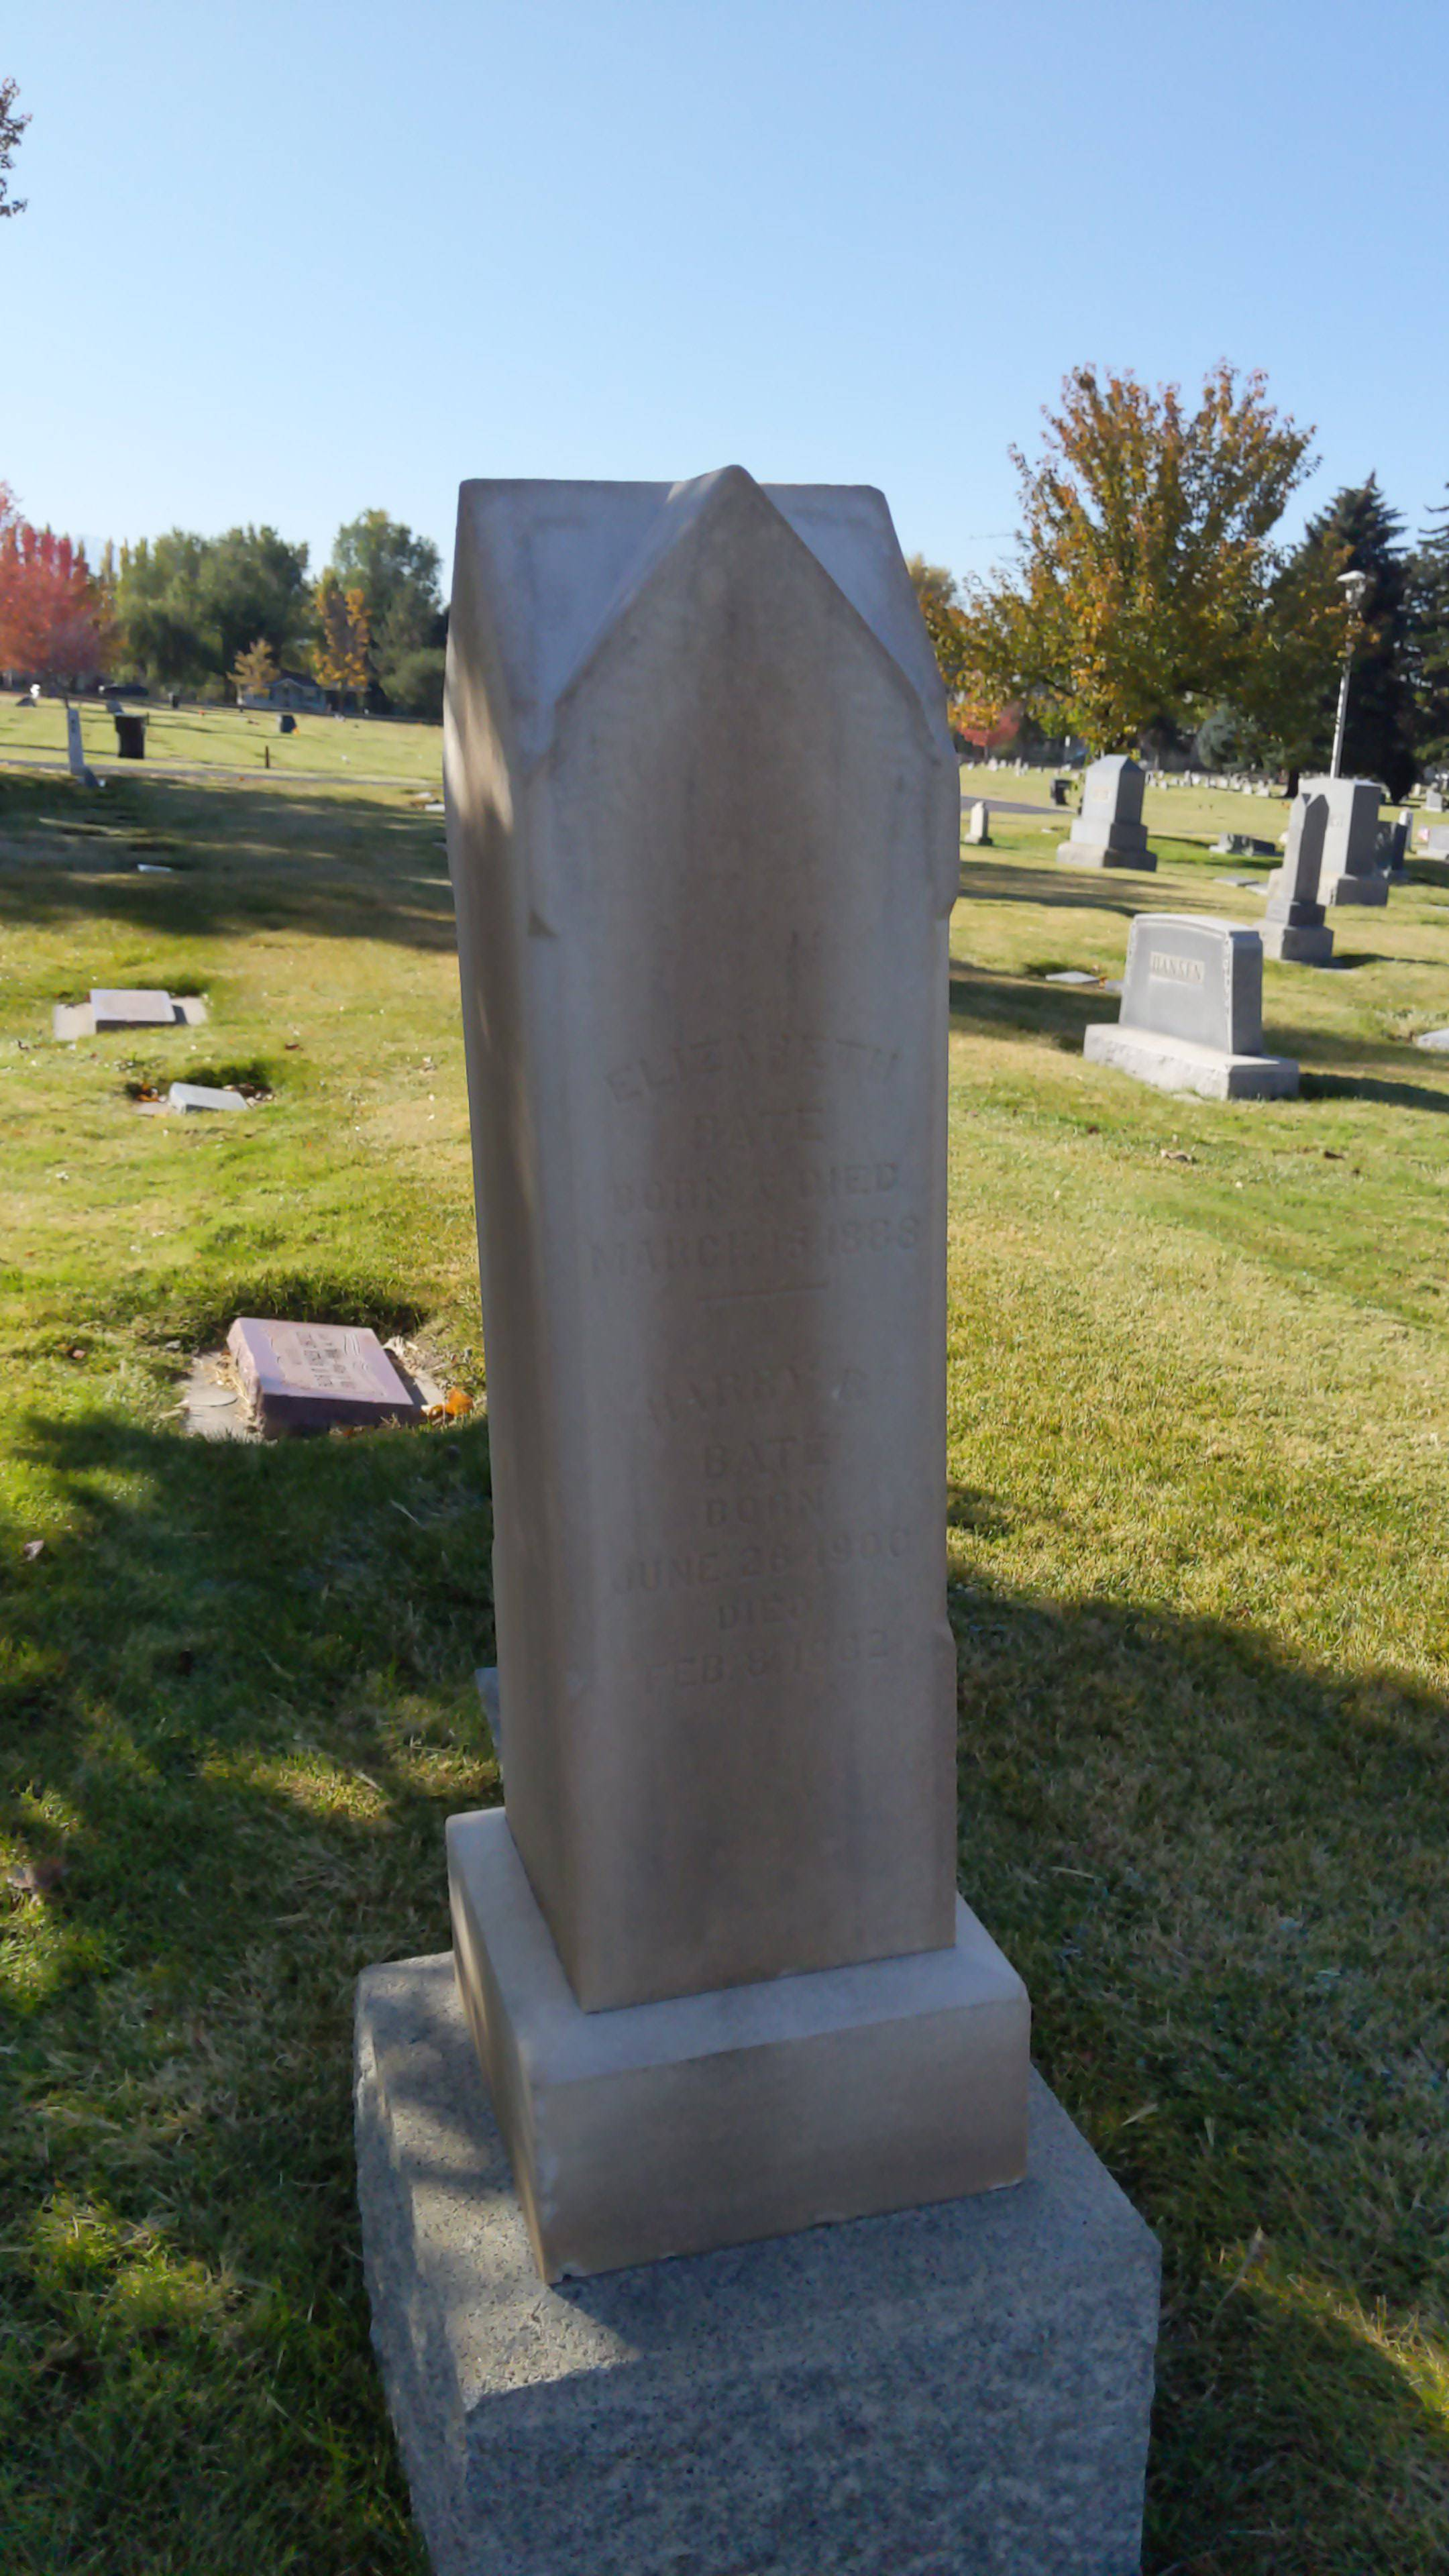obelisk: (435, 474, 1030, 2295)
